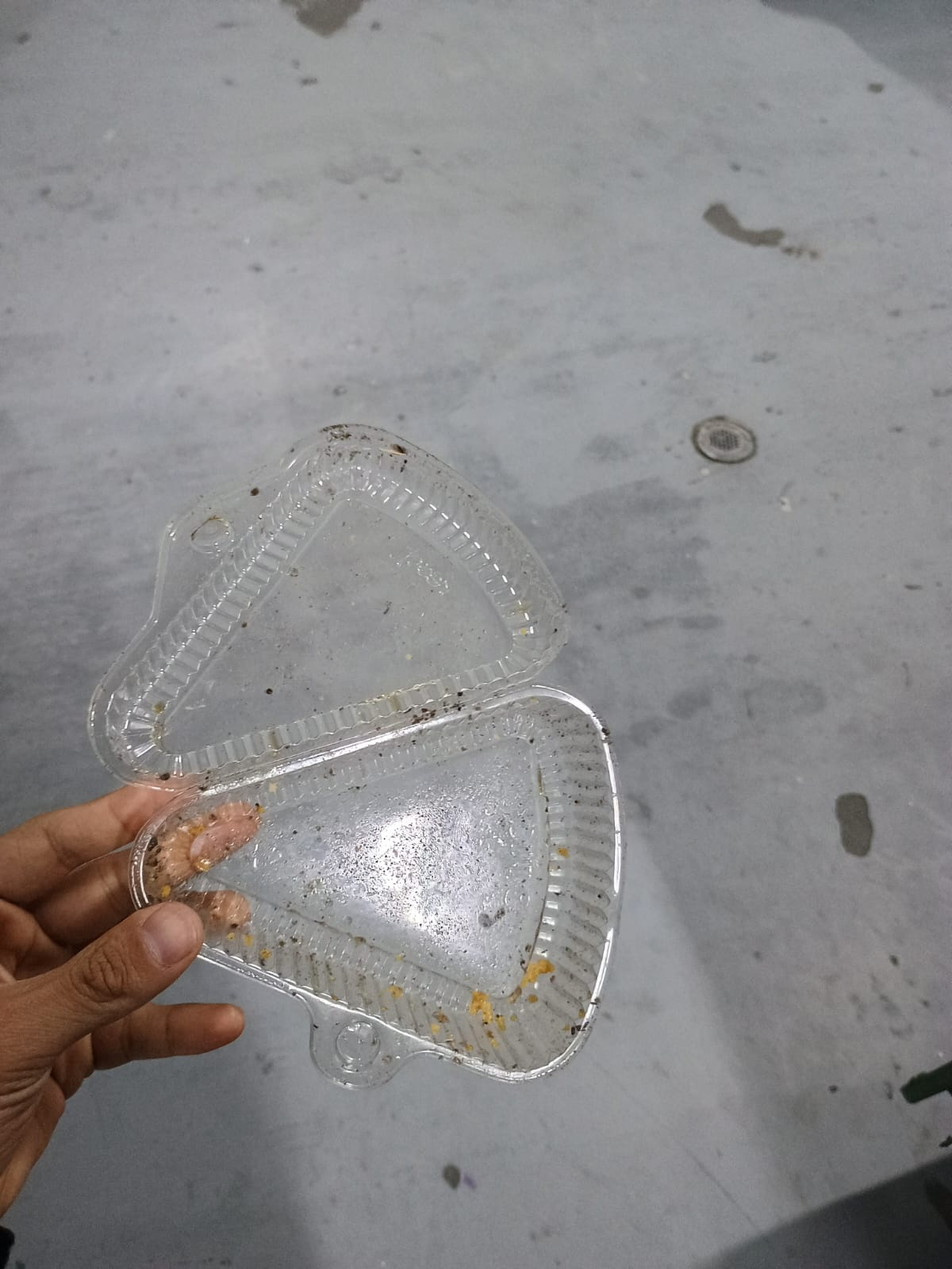Ordinario: (90, 421, 623, 1094)
